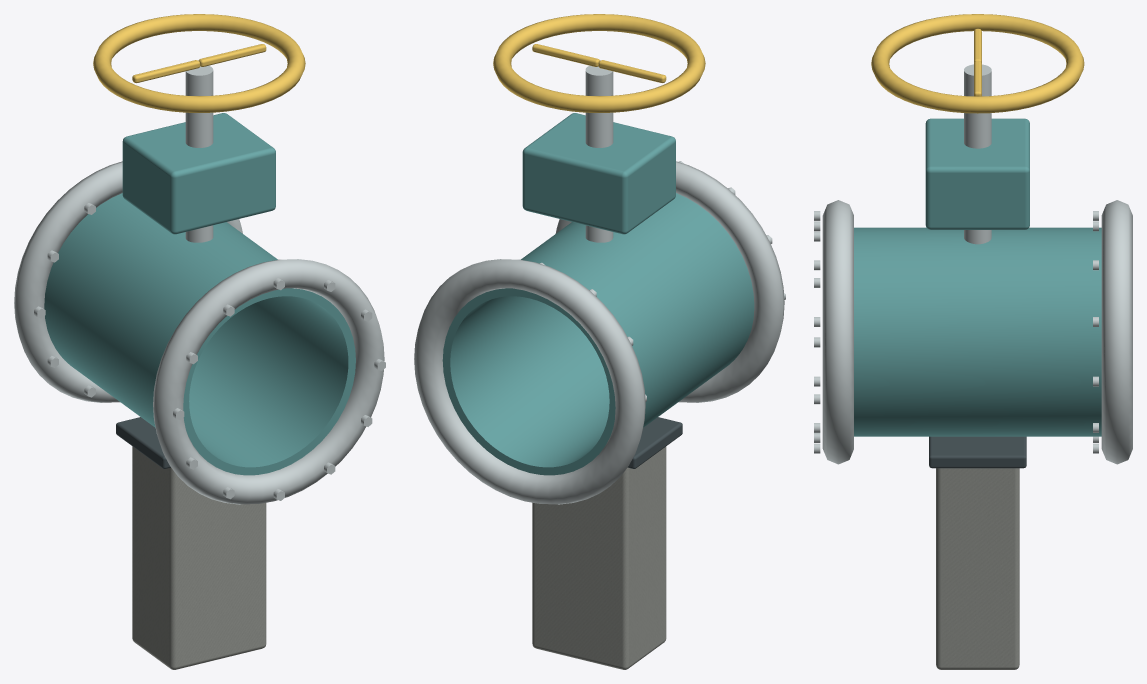
Rendered from hydroelectric-dam-infiltration-butterfly-valve-b43289f6__29344.glb.
The picture shows the model from 3 angles, left to right: view 1: azimuth 30°, elevation 25°; view 2: azimuth 150°, elevation 25°; view 3: azimuth 270°, elevation 25°; orthographic projection.
Parts seen in each view (by area): view 1: butterfly-valve; view 2: butterfly-valve; view 3: butterfly-valve.
Boxes of the visible parts, x1=… form: butterfly-valve: x1=14, y1=14, x2=385, y2=669; butterfly-valve: x1=414, y1=14, x2=785, y2=669; butterfly-valve: x1=814, y1=14, x2=1132, y2=669.
Bounding box in the file's own units: 0.76 × 1.88 × 0.915.
5 materials, 1 textured.
